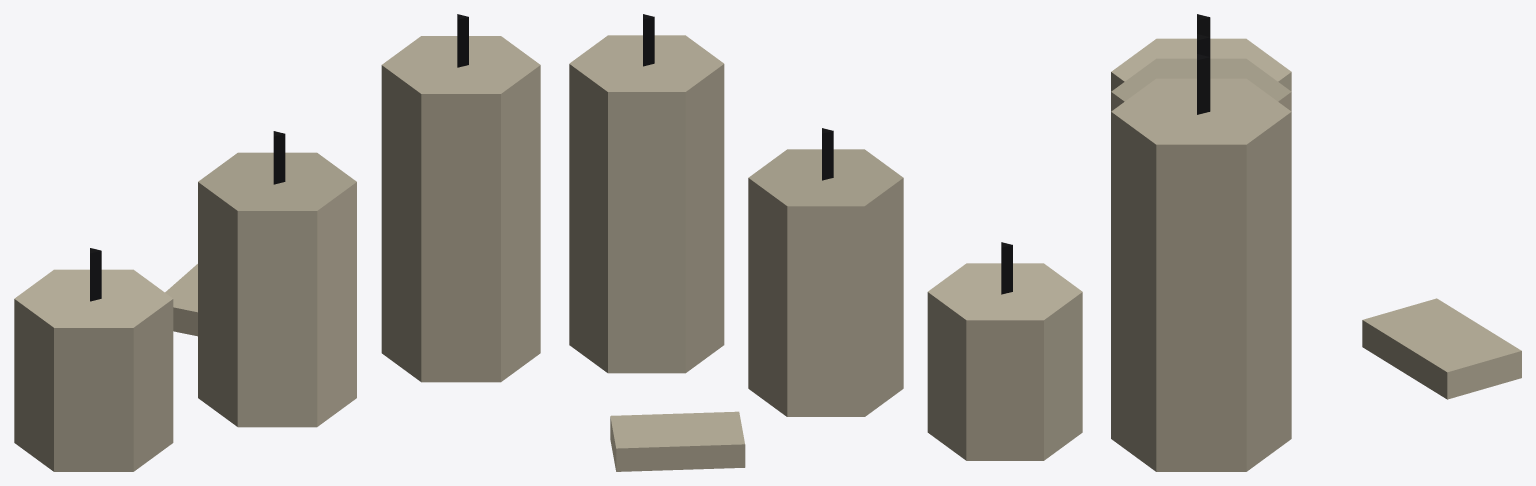
The model's file is village_candle_offering.glb.
The picture shows the model from 3 angles, left to right: view 1: azimuth 30°, elevation 25°; view 2: azimuth 150°, elevation 25°; view 3: azimuth 270°, elevation 25°; orthographic projection. The views are drawn at different scales.
Visible parts, largest first — view 1: village_candle_offering; view 2: village_candle_offering; view 3: village_candle_offering.
Boxes of the visible parts, x1,y1,x2,y2 form: village_candle_offering: [14, 14, 540, 471]; village_candle_offering: [569, 14, 1082, 471]; village_candle_offering: [1111, 14, 1521, 471].
Bounding box in the file's own units: 0.212 × 0.14 × 0.1365.
